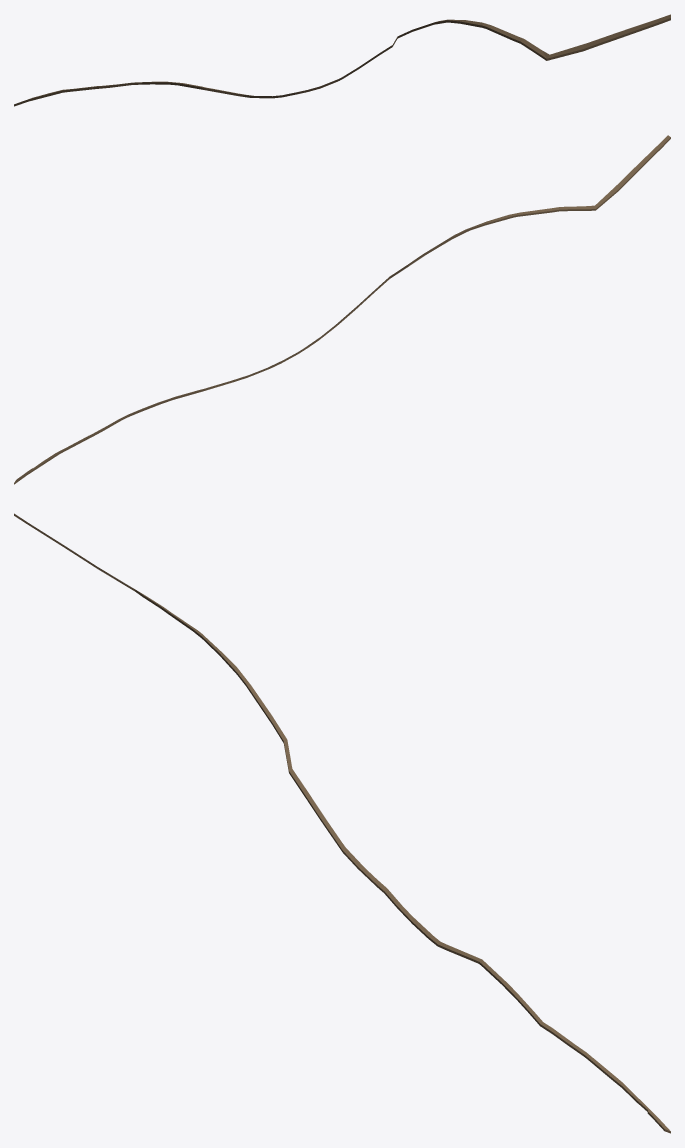
File: 17-109456-59488.25ceb3da.glb
3 views of the same model, one above another, from view 1: azimuth 90°, elevation 25°; view 2: azimuth 150°, elevation 25°; view 3: azimuth 270°, elevation 25° (orthographic). The views are drawn at different scales.
Size of the model in its own units: 180 by 112 by 188.
